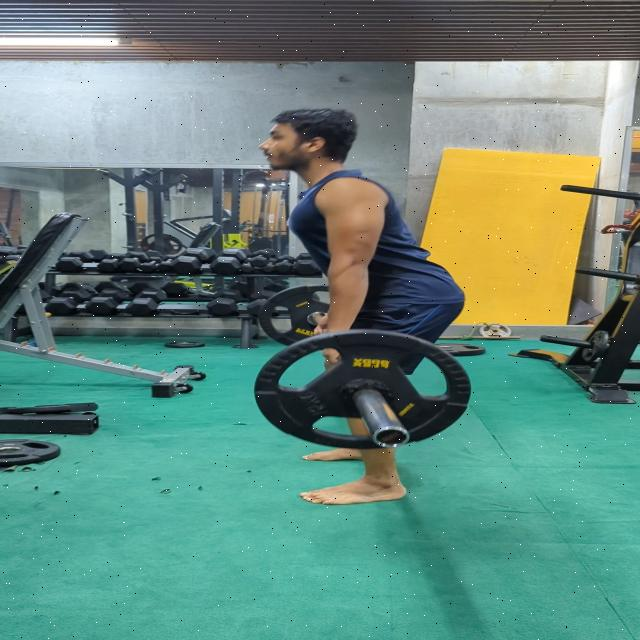Normal_Deadlifts: (252, 108, 470, 508)
